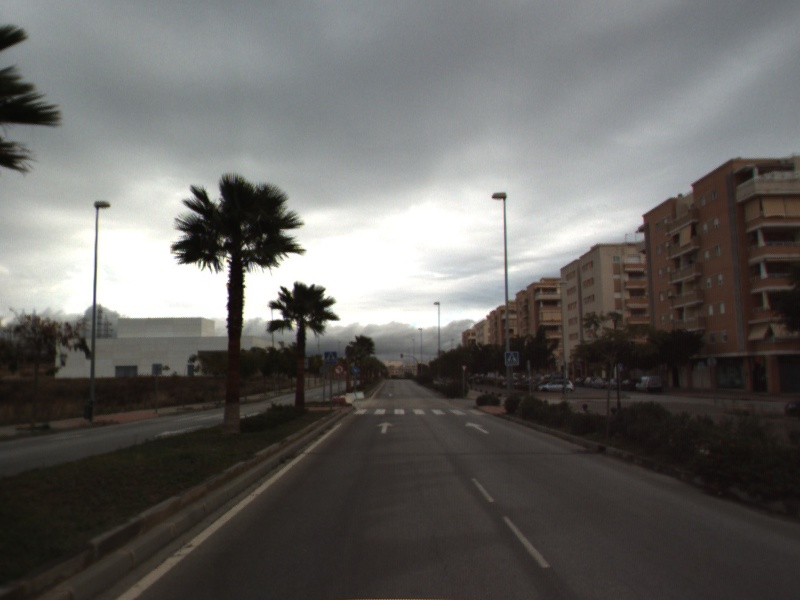STRAIGHT: (463, 420, 491, 435), (374, 419, 396, 435)
